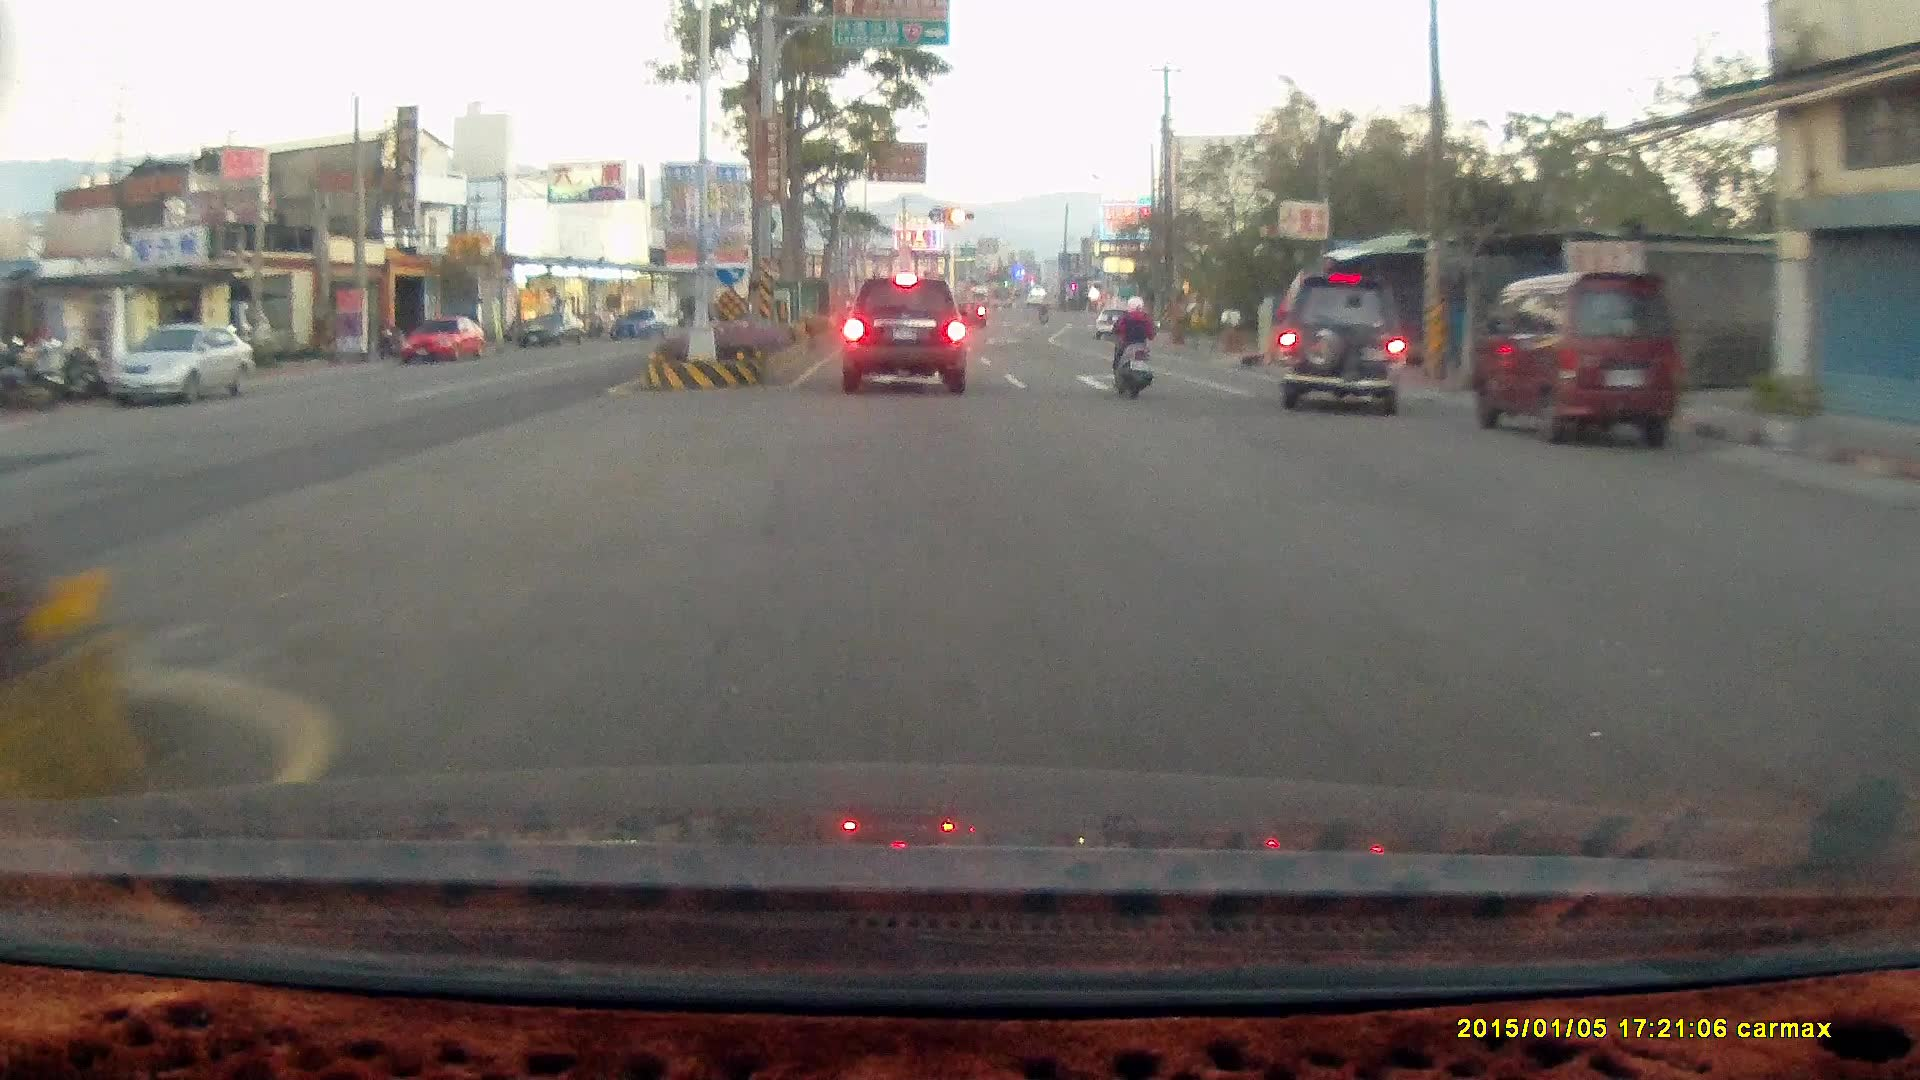rider: (1108, 290, 1157, 398)
vehicle: (1462, 267, 1681, 449), (1469, 267, 1683, 446), (1270, 269, 1414, 406), (1273, 270, 1406, 414), (838, 274, 966, 392), (104, 320, 258, 406), (106, 320, 255, 404), (1896, 493, 1920, 836), (1883, 528, 1920, 690), (399, 316, 486, 366), (399, 315, 485, 364), (1093, 303, 1138, 336)
